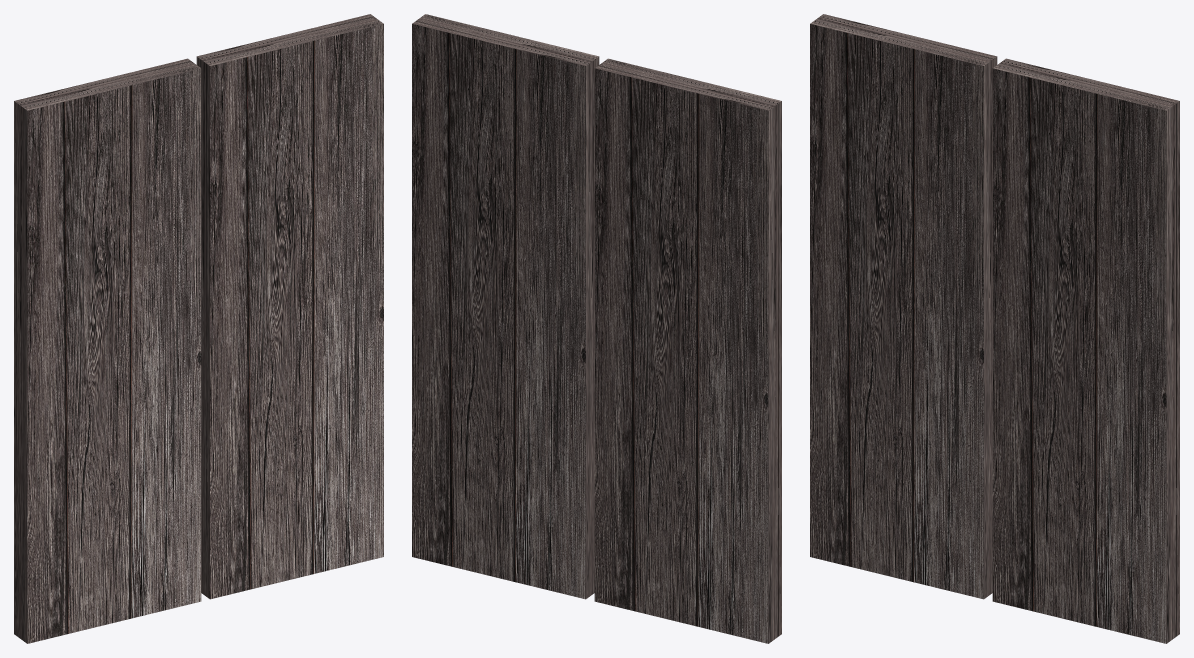
Rendered from trapdoorHD.fbx.
3 renders of one model, left to right at view 1: azimuth 30°, elevation 25°; view 2: azimuth 150°, elevation 25°; view 3: azimuth 330°, elevation 25°, orthographic.
Parts seen in each view (by area): view 1: Cube.001, Cube; view 2: Cube.001, Cube; view 3: Cube, Cube.001.
Boxes of the visible parts, x1,y1,x2,y2 form: Cube.001: [14, 58, 201, 643]; Cube: [196, 14, 383, 599]; Cube.001: [594, 58, 781, 643]; Cube: [412, 14, 599, 599]; Cube: [992, 58, 1179, 643]; Cube.001: [810, 14, 997, 599].
Bounding box in the file's own units: 410 × 586 × 26.56.
1 material, 1 textured.
